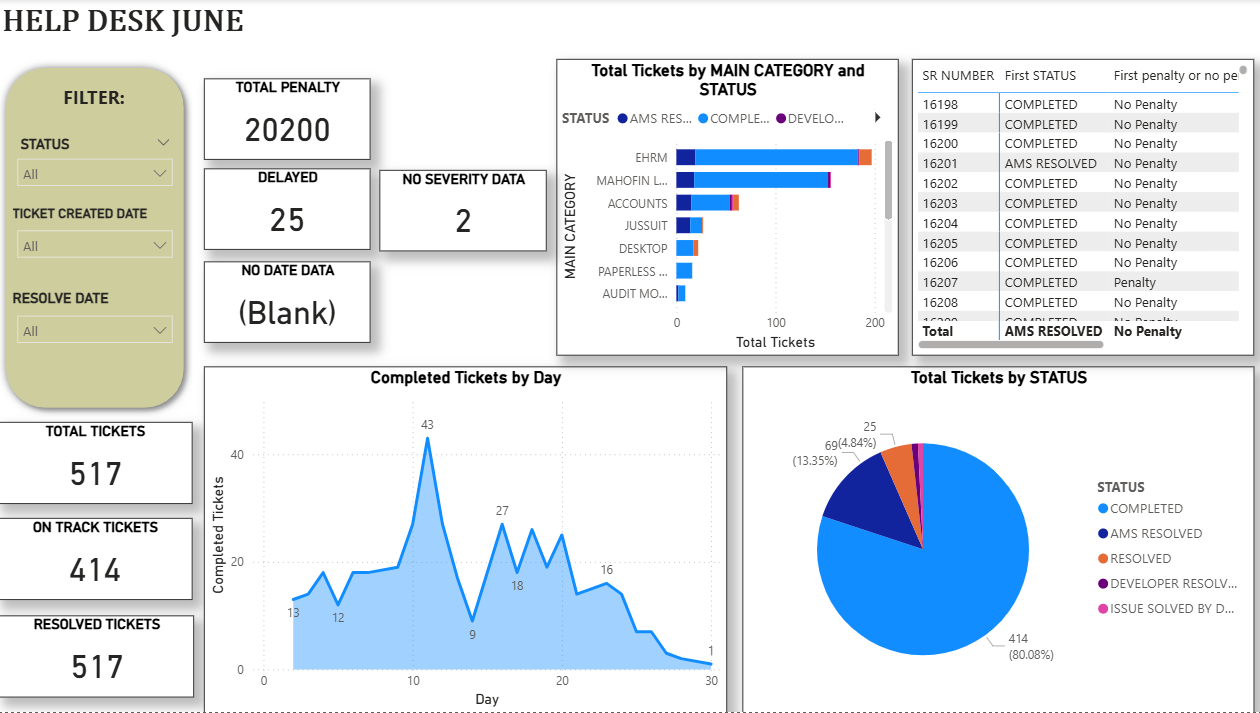

The dashboard page shown, as its layout file describes it:
{"tool":"powerbi","page":{"name":"Page 1","canvas":[1280,720],"ordinal":0},"visuals":[{"type":"card","title":"TOTAL TICKETS","fields":{"Values":["HD.Total Tickets"]},"box":[0,427.5,197.5,82.6],"z":0},{"type":"card","title":"ON TRACK TICKETS","fields":{"Values":["HD.Completed Tickets"]},"box":[0,524.6,197.5,82.6],"z":1000},{"type":"card","title":"RESOLVED TICKETS","fields":{"Values":["HD.Resolved Tickets"]},"box":[1.6,621.8,197.5,82.6],"z":2000},{"type":"shape","box":[0,59.9,197.5,361.1],"z":3000},{"type":"lineChart","fields":{"Category":["HD.TICKET CREATED DATE.Variation.Date Hierarchy.Year","HD.TICKET CREATED DATE.Variation.Date Hierarchy.Month","HD.TICKET CREATED DATE.Variation.Date Hierarchy.Day"],"Y":["HD.Completed Tickets"]},"box":[208.9,370.2,527.9,349.8],"z":4000},{"type":"barChart","fields":{"Category":["HD.MAIN CATEGORY"],"Y":["HD.Total Tickets"],"Series":["HD.STATUS"]},"box":[564.7,60.4,345.2,299],"z":5000},{"type":"textbox","box":[0,0,343.7,60.6],"z":6000},{"type":"slicer","fields":{"Values":["HD.STATUS"]},"box":[11.3,132.8,176.5,77.7],"z":7000},{"type":"slicer","title":"TICKET CREATED DATE","fields":{"Values":["HD.TICKET CREATED DATE"]},"box":[11.3,208.9,176.5,77.7],"z":8000},{"type":"slicer","title":"RESOLVE DATE","fields":{"Values":["HD.Resolve date"]},"box":[11.3,293.1,176.5,77.7],"z":9000},{"type":"textbox","box":[22.7,81,150.6,40.5],"z":10000},{"type":"card","title":"TOTAL PENALTY","fields":{"Values":["HD.Total Penalty Measure"]},"box":[209,80.3,168.1,81.8],"z":11000},{"type":"card","title":"DELAYED","fields":{"Values":["HD.Penalty Count"]},"box":[209,171.1,168.1,81.8],"z":12000},{"type":"card","title":"NO DATE DATA","fields":{"Values":["HD.No Resolved Date Count"]},"box":[209,265,168.1,81.8],"z":13000},{"type":"card","title":"NO SEVERITY DATA","fields":{"Values":["HD.No Severity Count"]},"box":[386.8,172.1,168.9,82.1],"z":14000},{"type":"pieChart","fields":{"Category":["HD.STATUS"],"Y":["HD.Total Tickets"]},"box":[752.9,370.2,516.5,349.8],"z":15000},{"type":"pivotTable","fields":{"Rows":["HD.SR NUMBER"],"Values":["Min(HD.STATUS)","Min(HD.penalty or no penalty)","HD.Total Penalty Measure"]},"box":[924,60,345,299],"z":16000}]}

Visuals, with their boxes in screenshot pixels (x1, y1, x2, y2), scaled from the page's 1280x720 canvas onto the 1260x713 screenshot:
"TOTAL TICKETS" card: box=[0, 423, 194, 505]
"ON TRACK TICKETS" card: box=[0, 519, 194, 601]
"RESOLVED TICKETS" card: box=[2, 616, 196, 698]
shape: box=[0, 59, 194, 417]
lineChart - HD.TICKET CREATED DATE.Variation.Date Hierarchy.Year x HD.TICKET CREATED DATE.Variation.Date Hierarchy.Month: box=[206, 367, 725, 712]
barChart - HD.MAIN CATEGORY x HD.Total Tickets: box=[556, 60, 896, 356]
textbox: box=[0, 0, 338, 60]
slicer - HD.STATUS: box=[11, 132, 185, 208]
"TICKET CREATED DATE" slicer: box=[11, 207, 185, 284]
"RESOLVE DATE" slicer: box=[11, 290, 185, 367]
textbox: box=[22, 80, 171, 120]
"TOTAL PENALTY" card: box=[206, 80, 371, 161]
"DELAYED" card: box=[206, 169, 371, 250]
"NO DATE DATA" card: box=[206, 262, 371, 343]
"NO SEVERITY DATA" card: box=[381, 170, 547, 252]
pieChart - HD.STATUS x HD.Total Tickets: box=[741, 367, 1250, 712]
pivotTable - HD.SR NUMBER x Min(HD.STATUS): box=[910, 59, 1249, 356]
